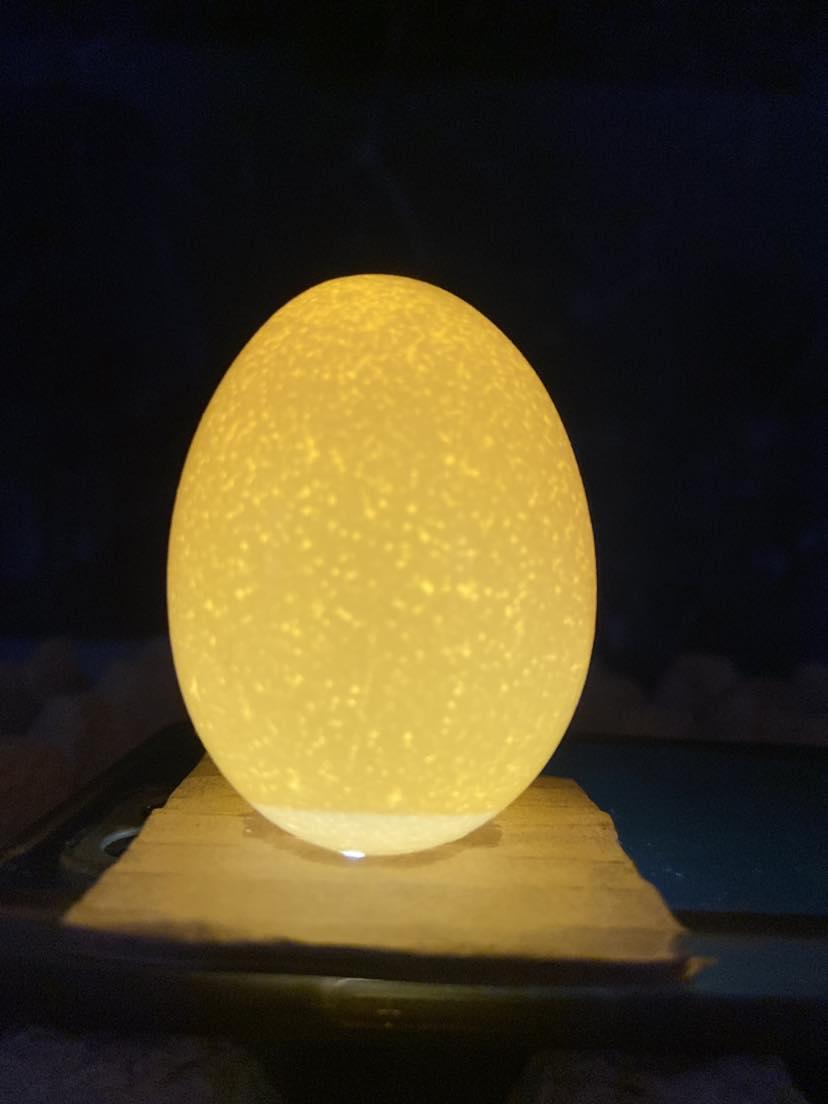A - Good: (160, 257, 605, 868)
